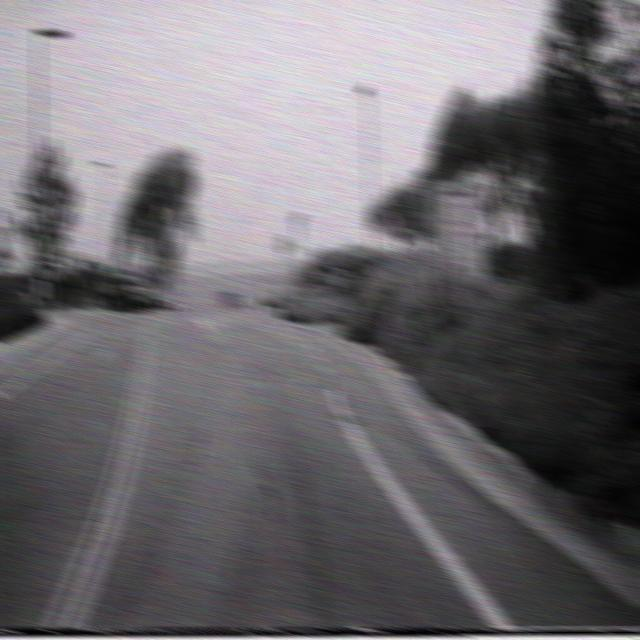stop_sign: (275, 232, 292, 257)
